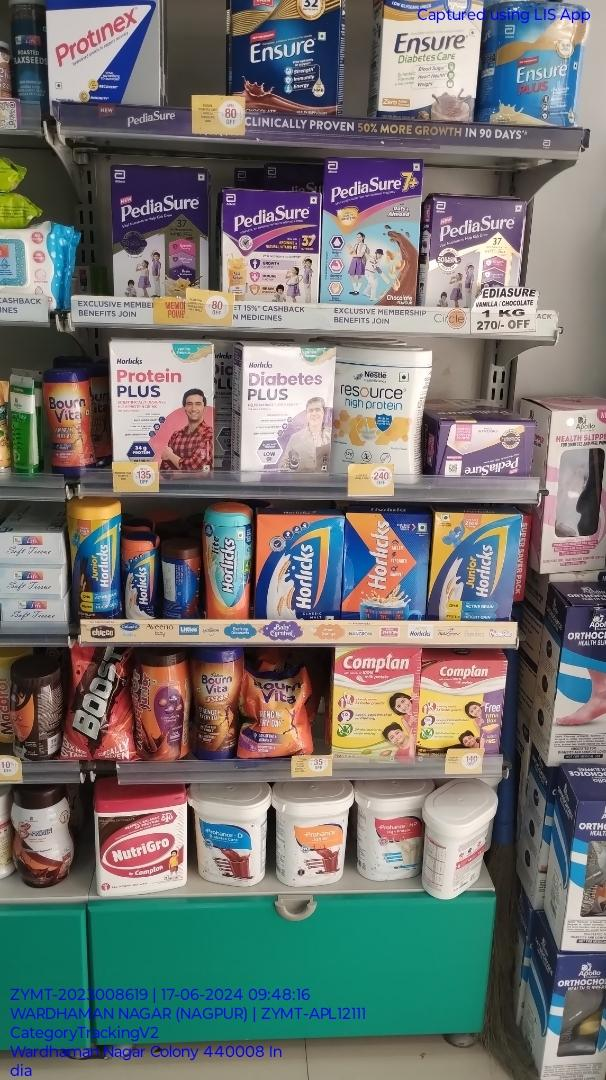BOURN_VITA_FIVE_STAR_MAGIC_500_G_JAR: (196, 644, 239, 761)
COMPLAN_PISTA_BADAM_500_GMS_PACK: (335, 647, 418, 762)
HORLICKS_JUNIOR_VANILLA_500_GM_JAR: (69, 504, 122, 622)
HORLICKS_LITE_REGULAR_MALT_500_GM_JAR: (201, 506, 250, 621)
HORLICK_CLASSIC_MALT_200_G_JAR: (123, 536, 158, 620)
HORLICK_CLASSIC_MALT_500_G_PACK: (344, 513, 428, 620), (257, 515, 340, 619)
